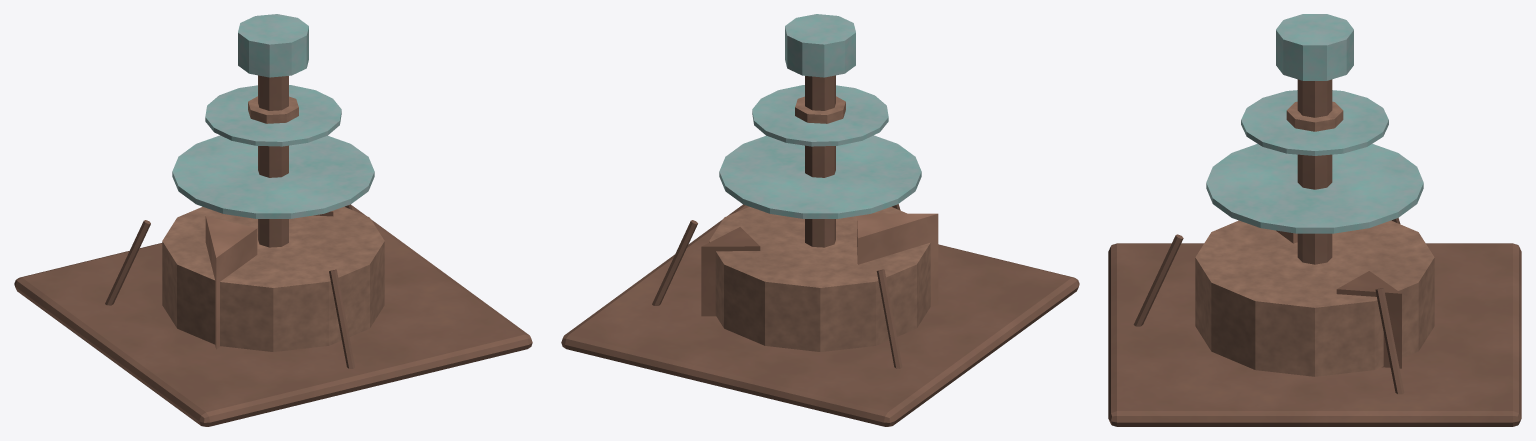
Rendered from sod_veil_projector.glb.
3 renders of one model, left to right at view 1: azimuth 30°, elevation 25°; view 2: azimuth 150°, elevation 25°; view 3: azimuth 270°, elevation 25°, orthographic. The views are drawn at different scales.
Parts seen in each view (by area): view 1: sod_veil_projector; view 2: sod_veil_projector; view 3: sod_veil_projector.
Boxes of the visible parts, x1,y1,x2,y2 form: sod_veil_projector: (14,14,532,426); sod_veil_projector: (561,14,1079,426); sod_veil_projector: (1108,14,1521,426).
Bounding box in the file's own units: 1.9 × 1.59 × 1.9.
Materials: 1 (1 with a texture image).
